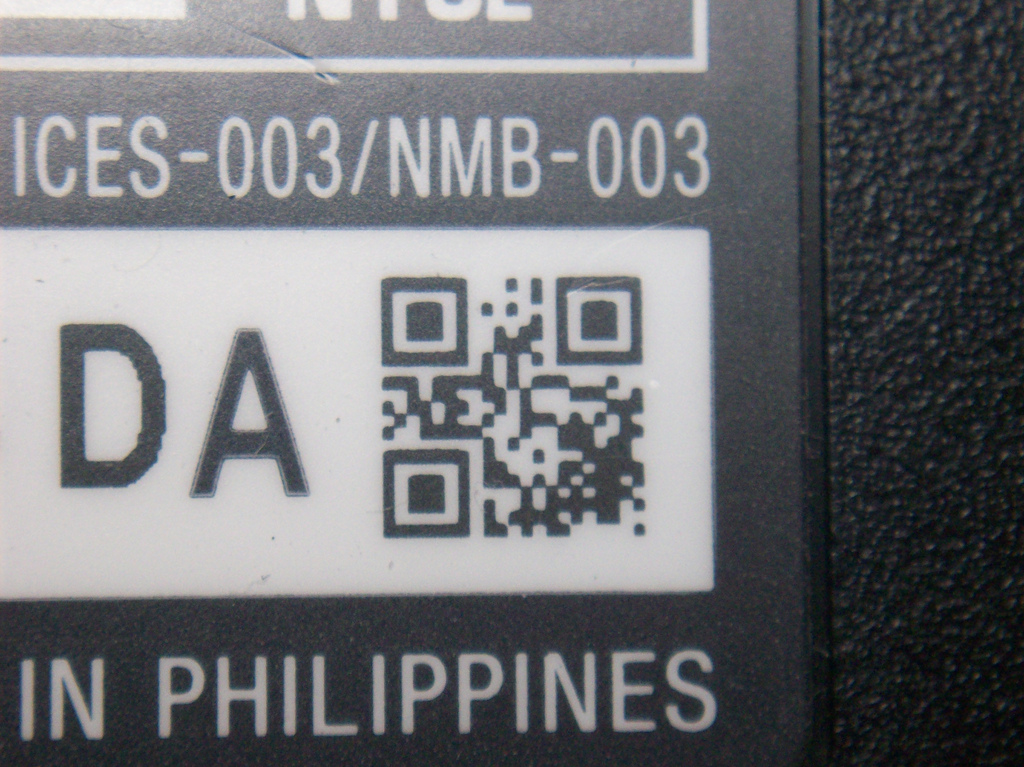QR-CODE: (381, 277, 644, 537)
